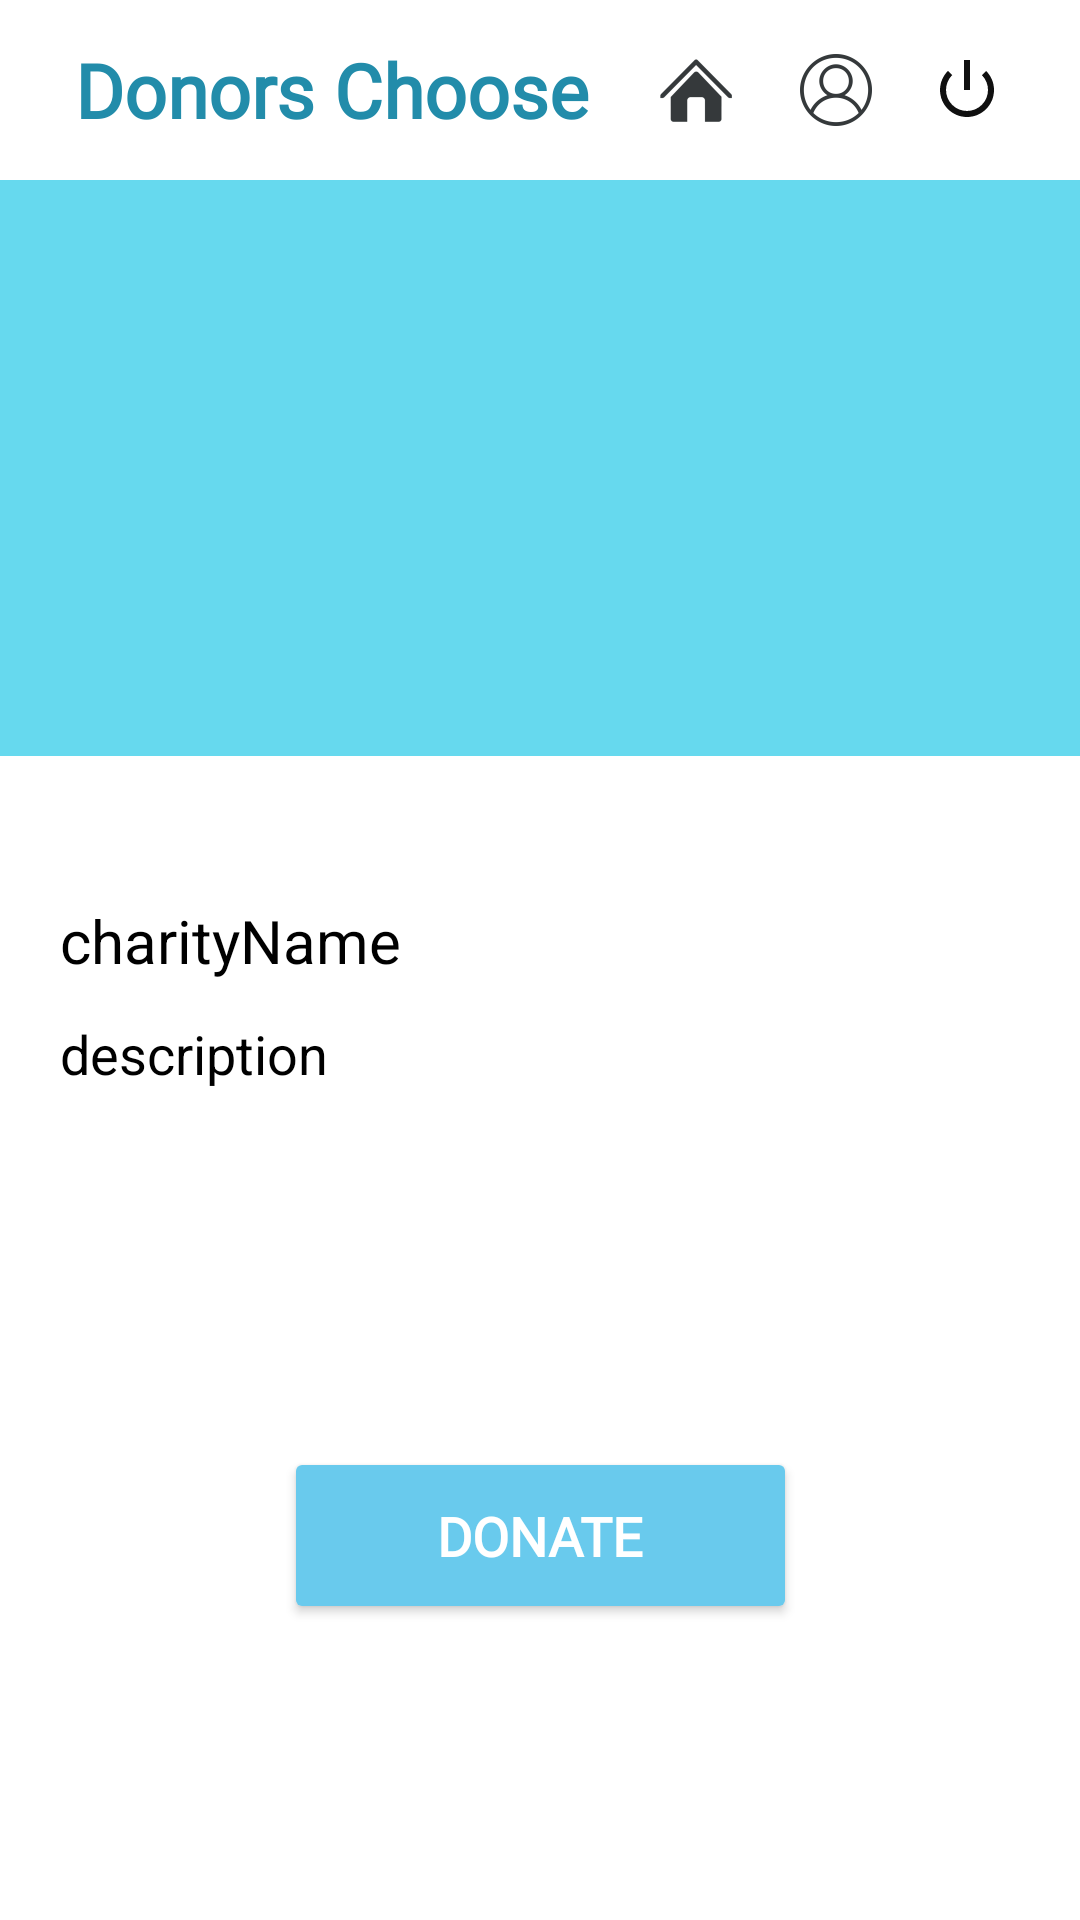

Icon click points for this 1080x1920 phone screenshot, format point (x, y):
lock power off: point (967, 88)
